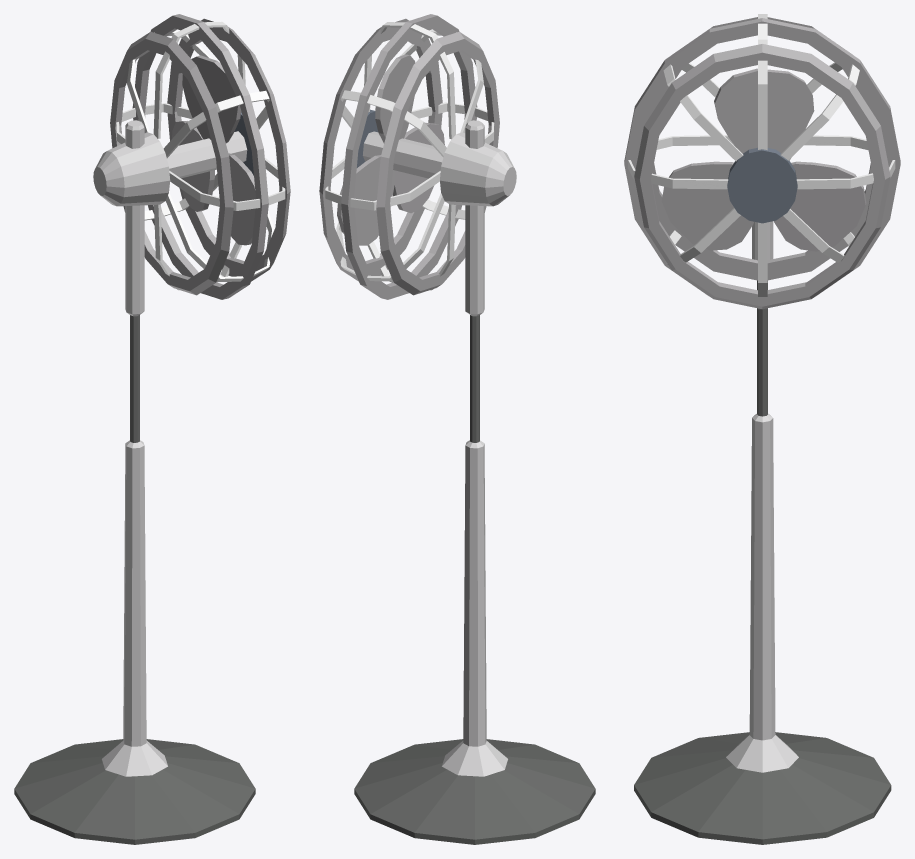
The model's file is SM_Fan_02.glb.
The picture shows the model from 3 angles, left to right: view 1: azimuth 30°, elevation 25°; view 2: azimuth 150°, elevation 25°; view 3: azimuth 270°, elevation 25°; orthographic projection. The views are drawn at different scales.
Parts seen in each view (by area): view 1: SM_Fan_02; view 2: SM_Fan_02; view 3: SM_Fan_02.
Boxes of the visible parts, x1,y1,x2,y2 form: SM_Fan_02: (14,14,290,844); SM_Fan_02: (319,14,595,844); SM_Fan_02: (624,14,900,844).
Bounding box in the file's own units: 0.5842 × 1.95 × 0.6058.
1 material, 1 textured.
